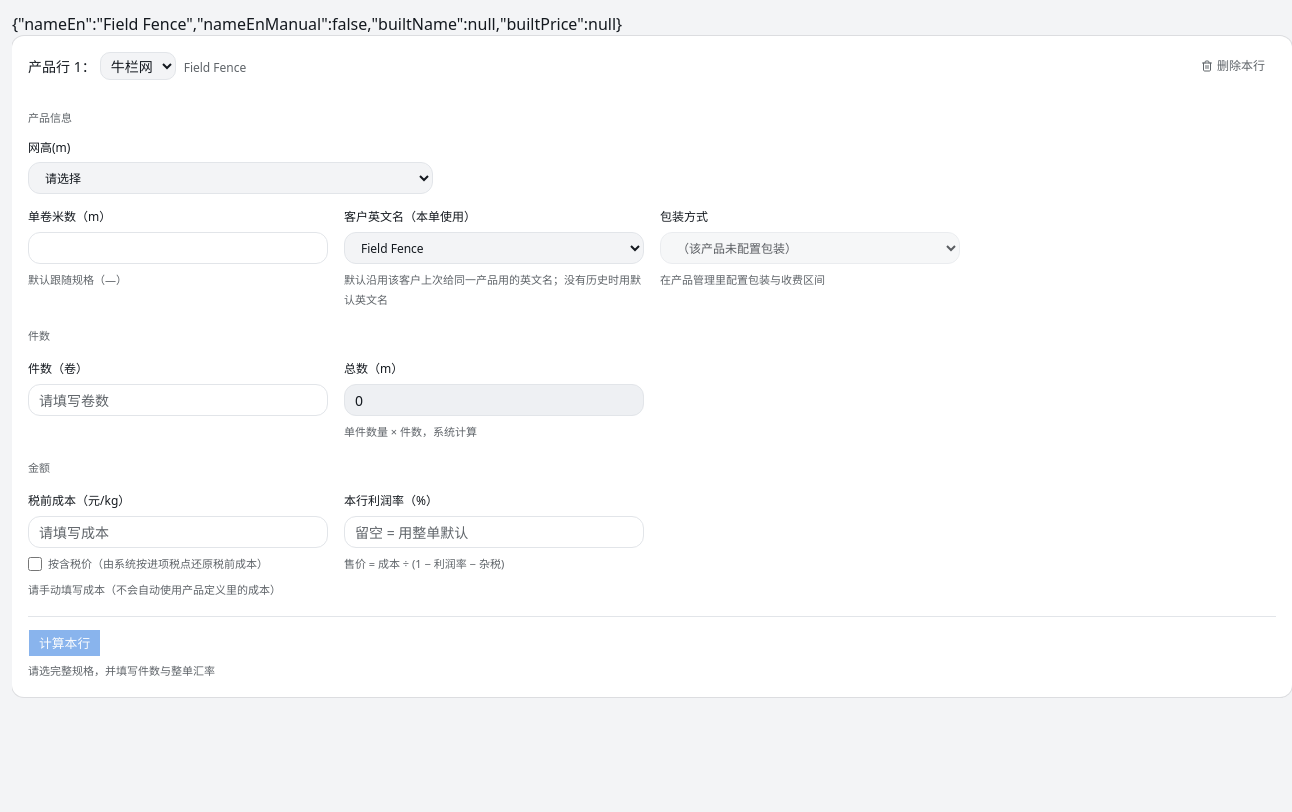
Test: 换产品 → 重置并按新产品默认名重新解析 › 换产品：nameEn/nameEnManual 重置，默认名变成新产品默认名
Select "勾花网" in the dropdown in the row of "产品行" at (138, 66), box left=100, top=52, right=176, bottom=80
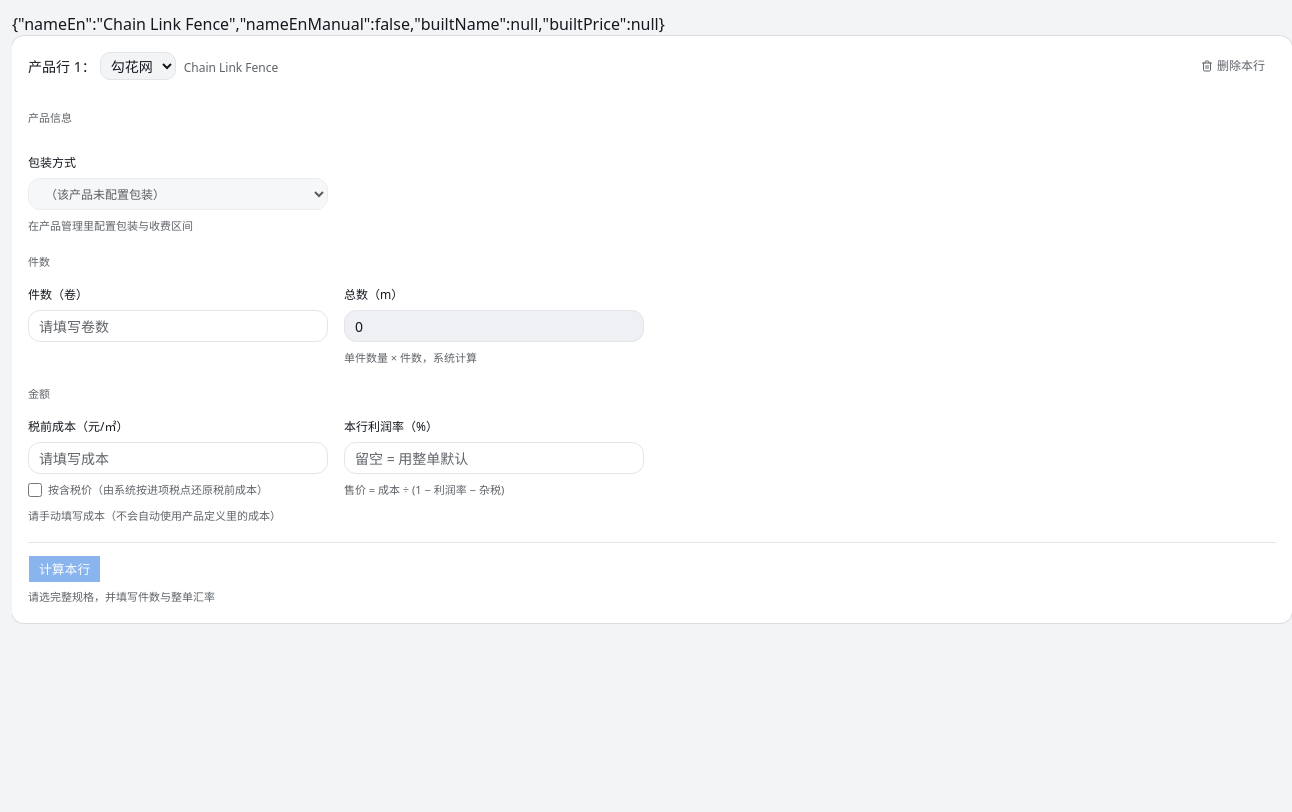
Check: the text "Chain Link Fence" is shown, box left=184, top=58, right=278, bottom=76
